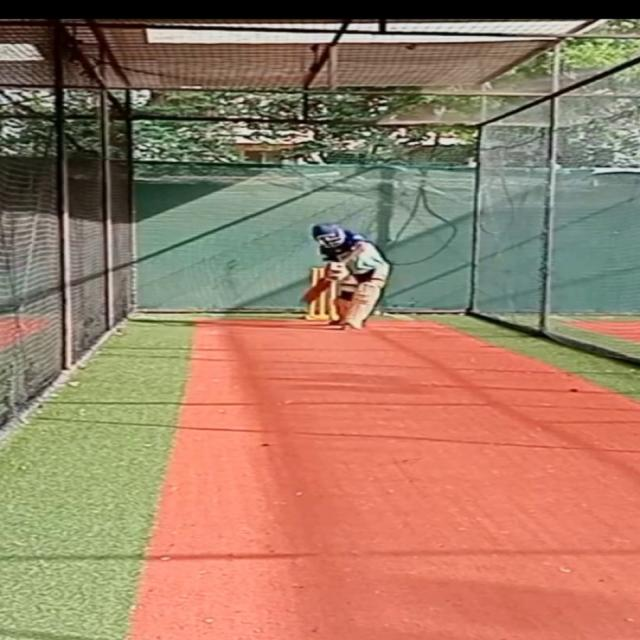stump: (306, 265, 335, 323)
